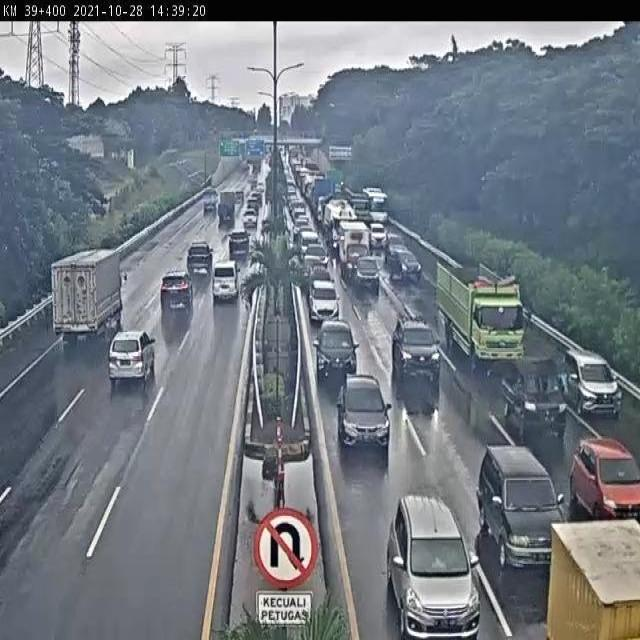Bus: (361, 187, 390, 224)
Car: (386, 495, 480, 640), (477, 446, 564, 569), (568, 437, 640, 526), (499, 356, 569, 442), (335, 372, 392, 453), (562, 349, 620, 420), (391, 314, 443, 383), (313, 319, 358, 387), (107, 328, 156, 385), (308, 277, 339, 324), (160, 270, 193, 312), (353, 254, 383, 294), (388, 249, 422, 281), (187, 240, 213, 276), (305, 266, 336, 292), (302, 242, 329, 267), (301, 256, 327, 280), (386, 232, 406, 260), (228, 230, 250, 255), (368, 222, 388, 249), (242, 210, 258, 231), (246, 196, 261, 215)
Truck: (545, 517, 640, 640), (434, 258, 532, 372), (50, 249, 128, 345), (324, 198, 360, 254), (338, 218, 370, 280), (343, 183, 371, 223), (313, 178, 336, 224), (218, 190, 237, 221), (326, 168, 344, 197), (202, 189, 219, 212)
Van: (212, 260, 239, 302)
